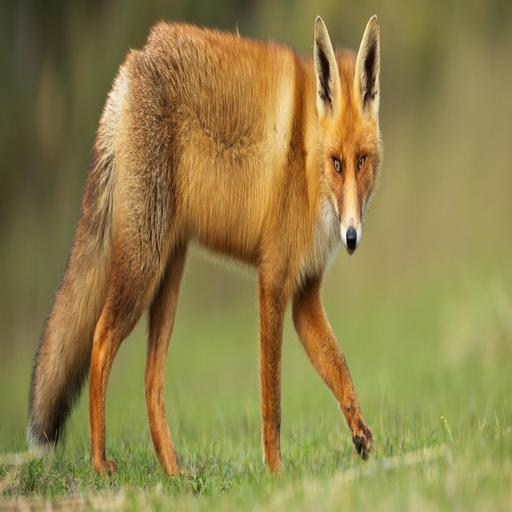Fox: (26, 12, 396, 473)
